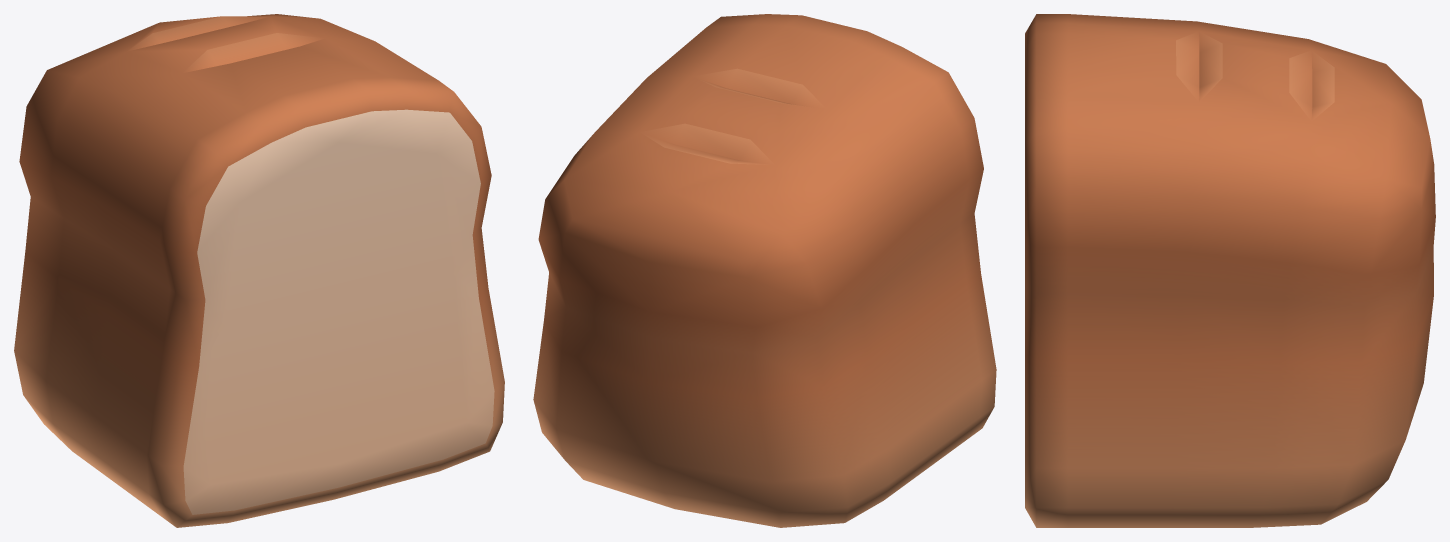
File: Bread Half.glb
3 views of the same model, side by side, from view 1: azimuth 30°, elevation 25°; view 2: azimuth 150°, elevation 25°; view 3: azimuth 270°, elevation 25° (orthographic). The views are drawn at different scales.
Parts seen in each view (by area): view 1: bread_half; view 2: bread_half; view 3: bread_half.
Boxes of the visible parts, x1=… form: bread_half: x1=14, y1=14, x2=504, y2=527; bread_half: x1=533, y1=14, x2=996, y2=527; bread_half: x1=1025, y1=14, x2=1435, y2=527.
Bounding box in the file's own units: 0.4612 × 0.5155 × 0.4691.
Materials: 1 (1 with a texture image).
